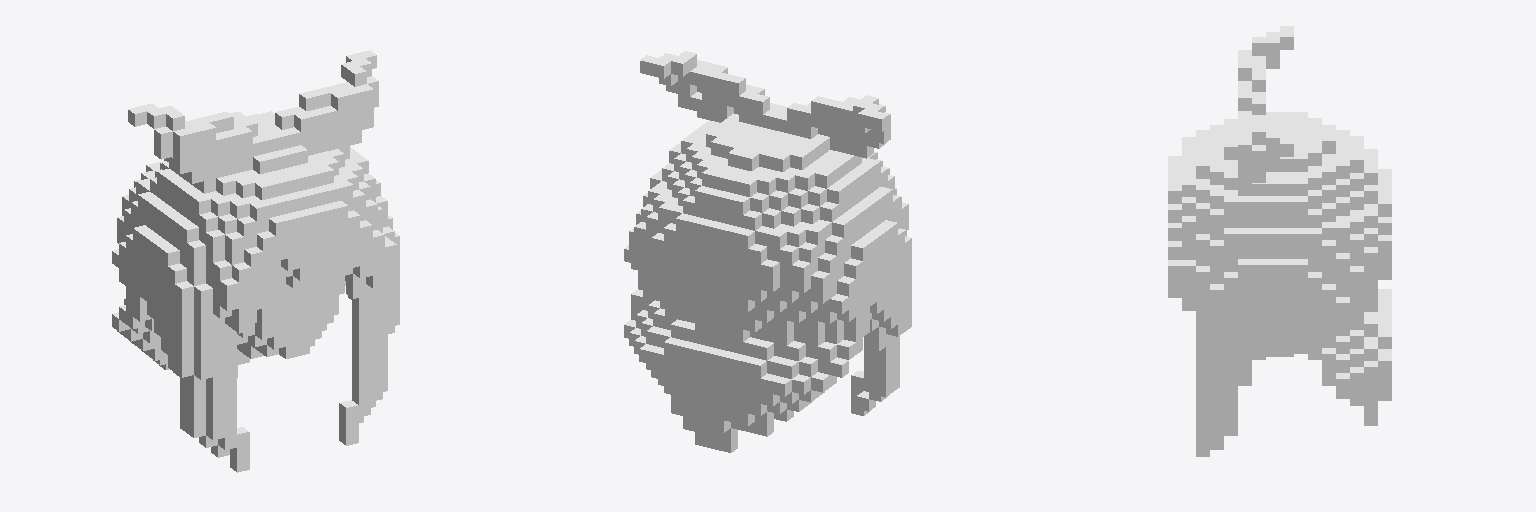
The model's file is alice_head.obj.
The picture shows the model from 3 angles: view 1: azimuth 30°, elevation 25°; view 2: azimuth 150°, elevation 25°; view 3: azimuth 270°, elevation 25°; orthographic projection.
Visible parts, largest first — view 1: object 1; view 2: object 1; view 3: object 1.
Part boxes in pixels (x1,y1,x2,y2): object 1: (112,50,399,472); object 1: (624,51,911,452); object 1: (1168,26,1391,456).
Bounding box in the file's own units: 2 × 2.7 × 1.6.